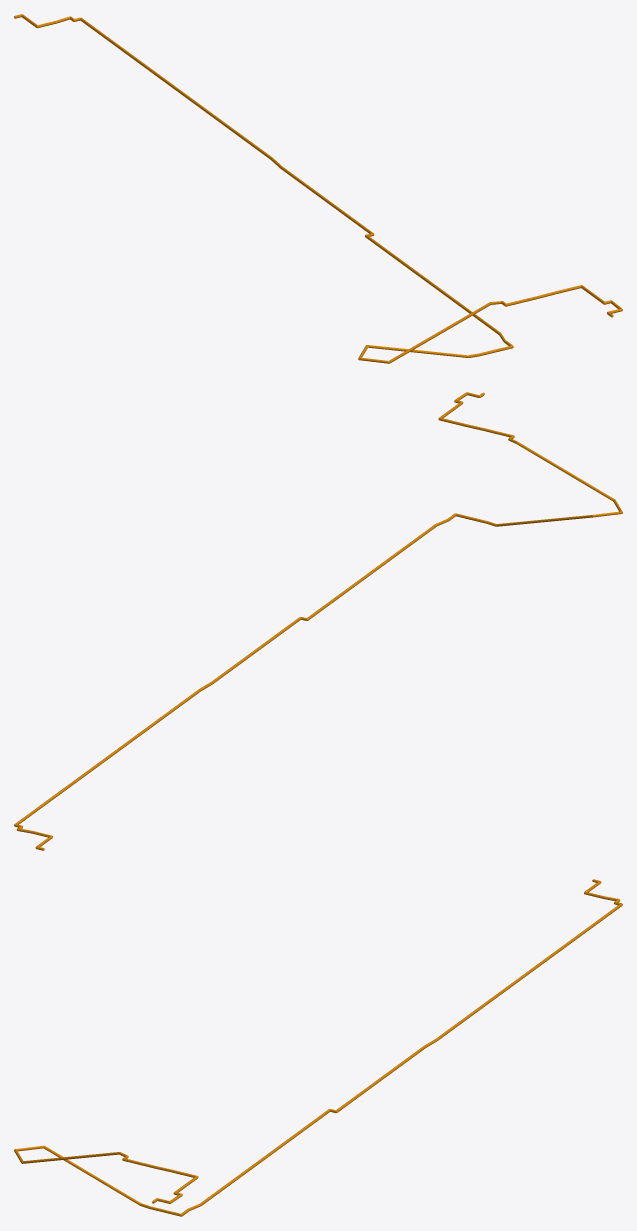
3 renders of one model, top to bottom at view 1: azimuth 30°, elevation 25°; view 2: azimuth 150°, elevation 25°; view 3: azimuth 330°, elevation 25°, orthographic. The views are drawn at different scales.
Bounding box in the file's own units: 1619 × 520 × 6903.
